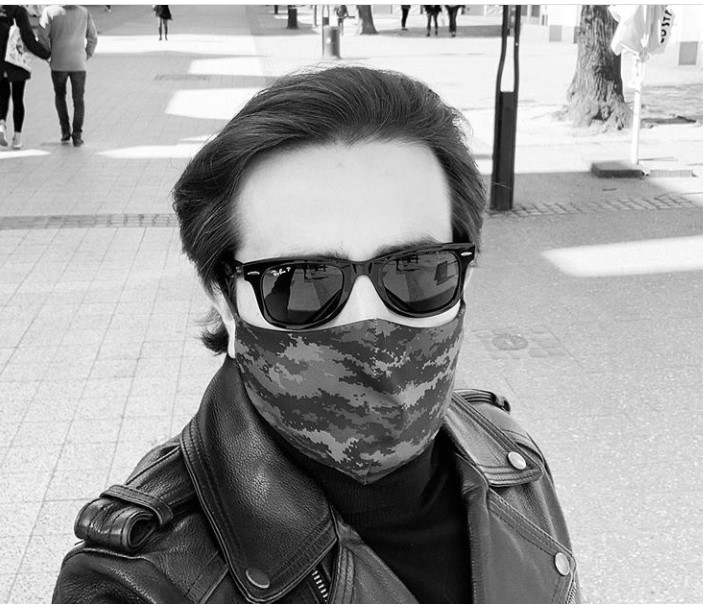face_with_mask: (173, 59, 499, 487)
